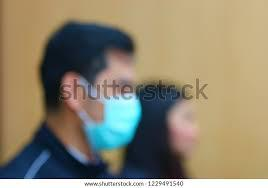NONE: (163, 100, 199, 154)
OK: (74, 73, 143, 148)
